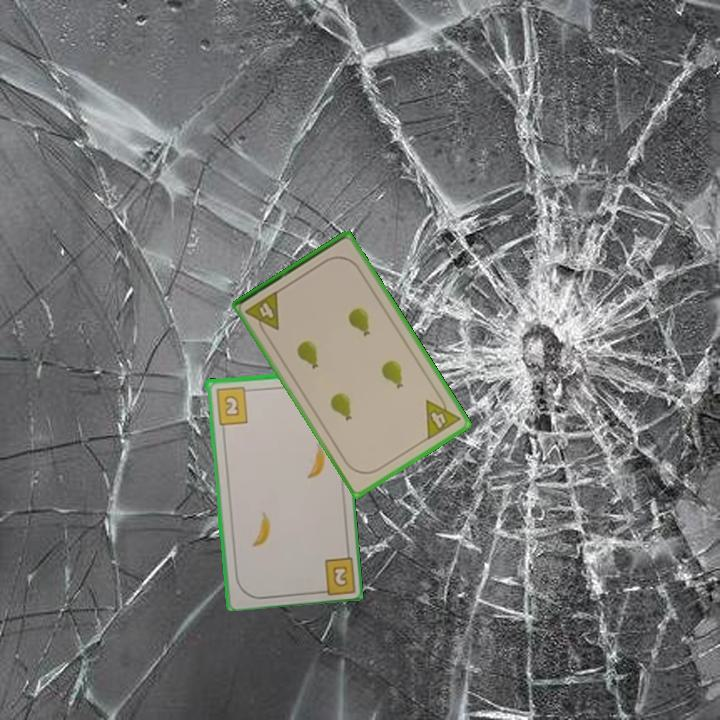2b: (313, 551, 357, 595), (212, 383, 254, 427)
4p: (422, 389, 463, 443), (242, 287, 283, 339)
